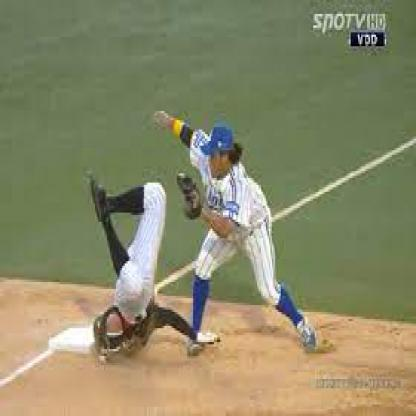Fall_Down: (86, 172, 224, 371)
